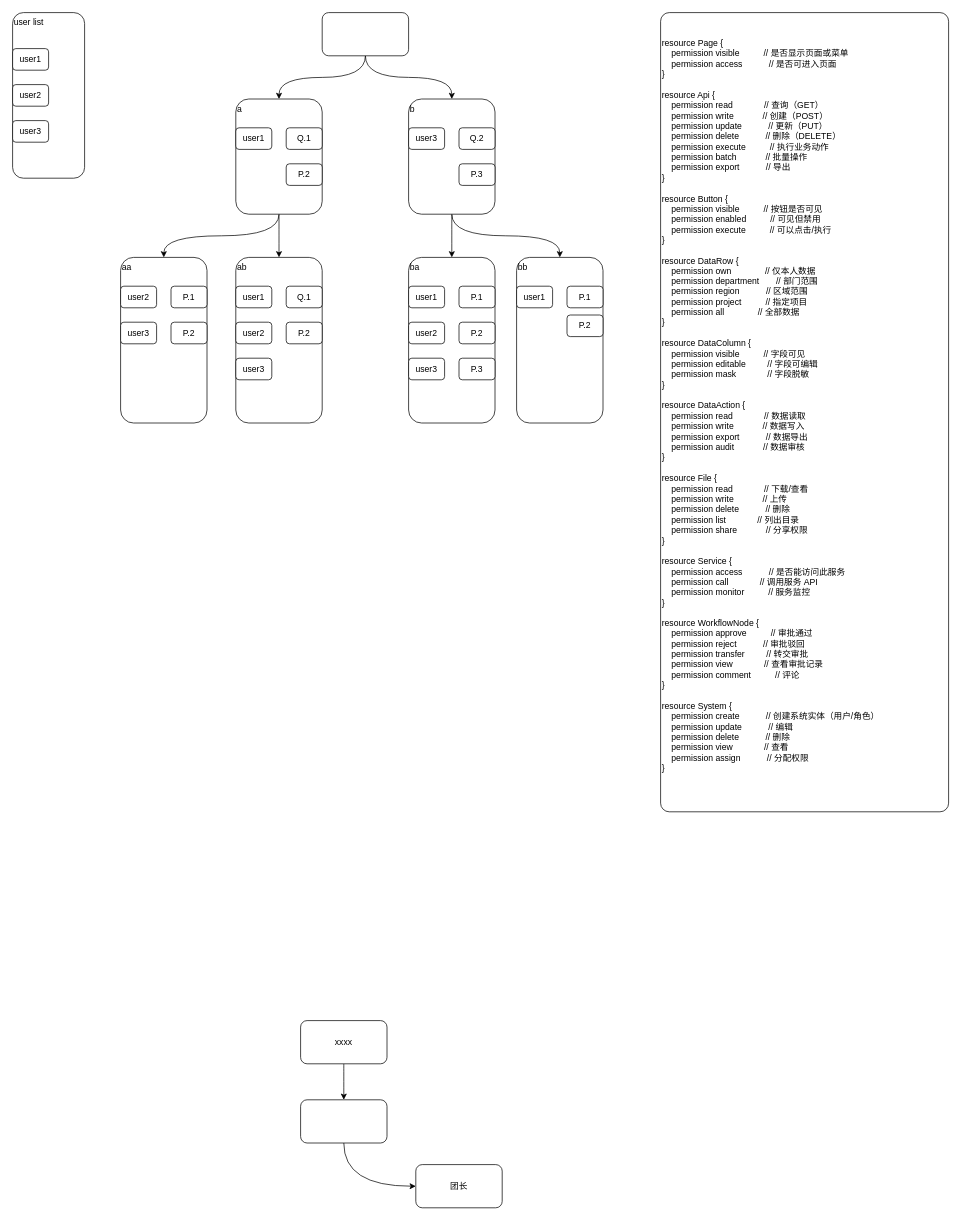
Image size: 961x1220. Some labels were removed from this diagram. The shapes that lost their labels are listed below. From the top down, each one's centre as x and y in pixels, then its label:
At [365,34]: "root".
At [343,1121]: "延安".
